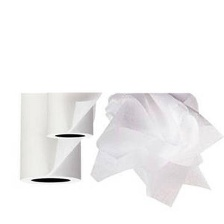tissue: (86, 93, 223, 212), (13, 93, 86, 192), (41, 93, 97, 145)
